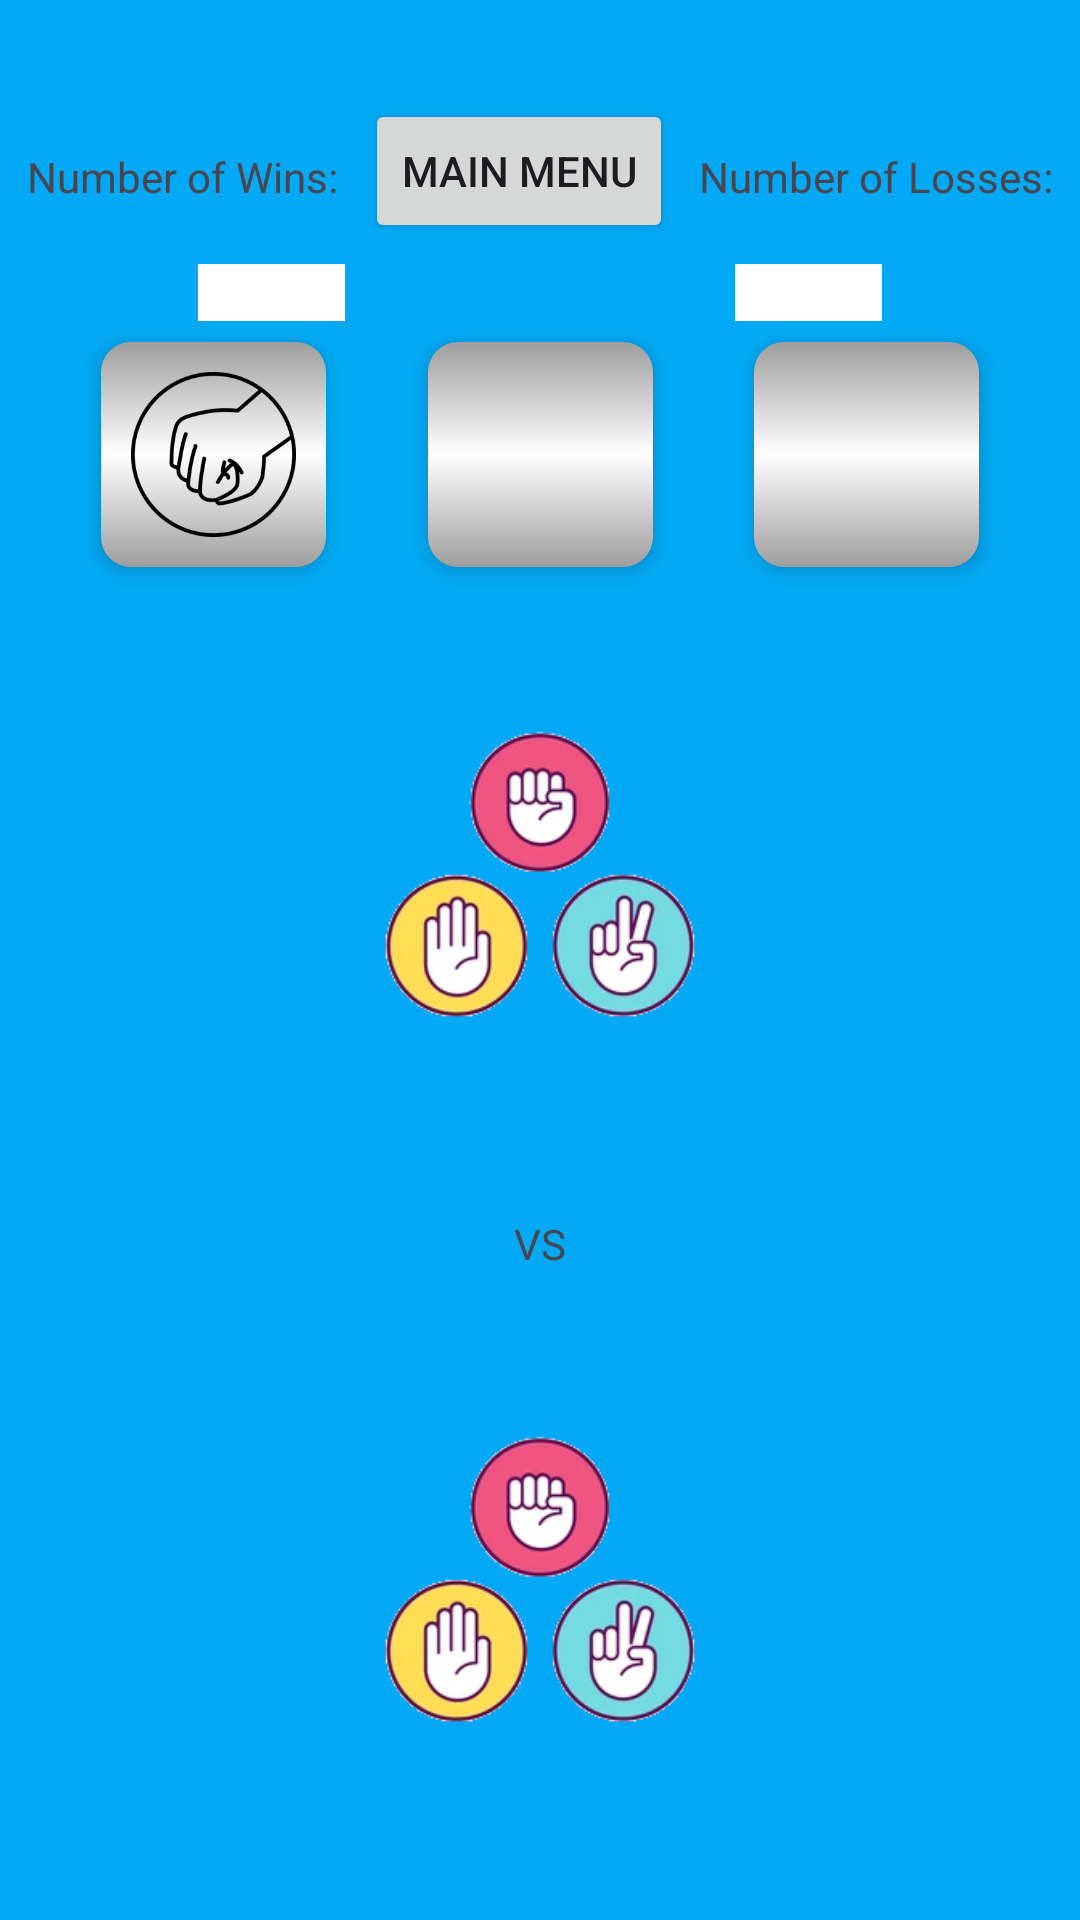

Icons on this 1080*1920 Android screen, each with the point to tap as point (x, y):
Rock: point (213, 454)
